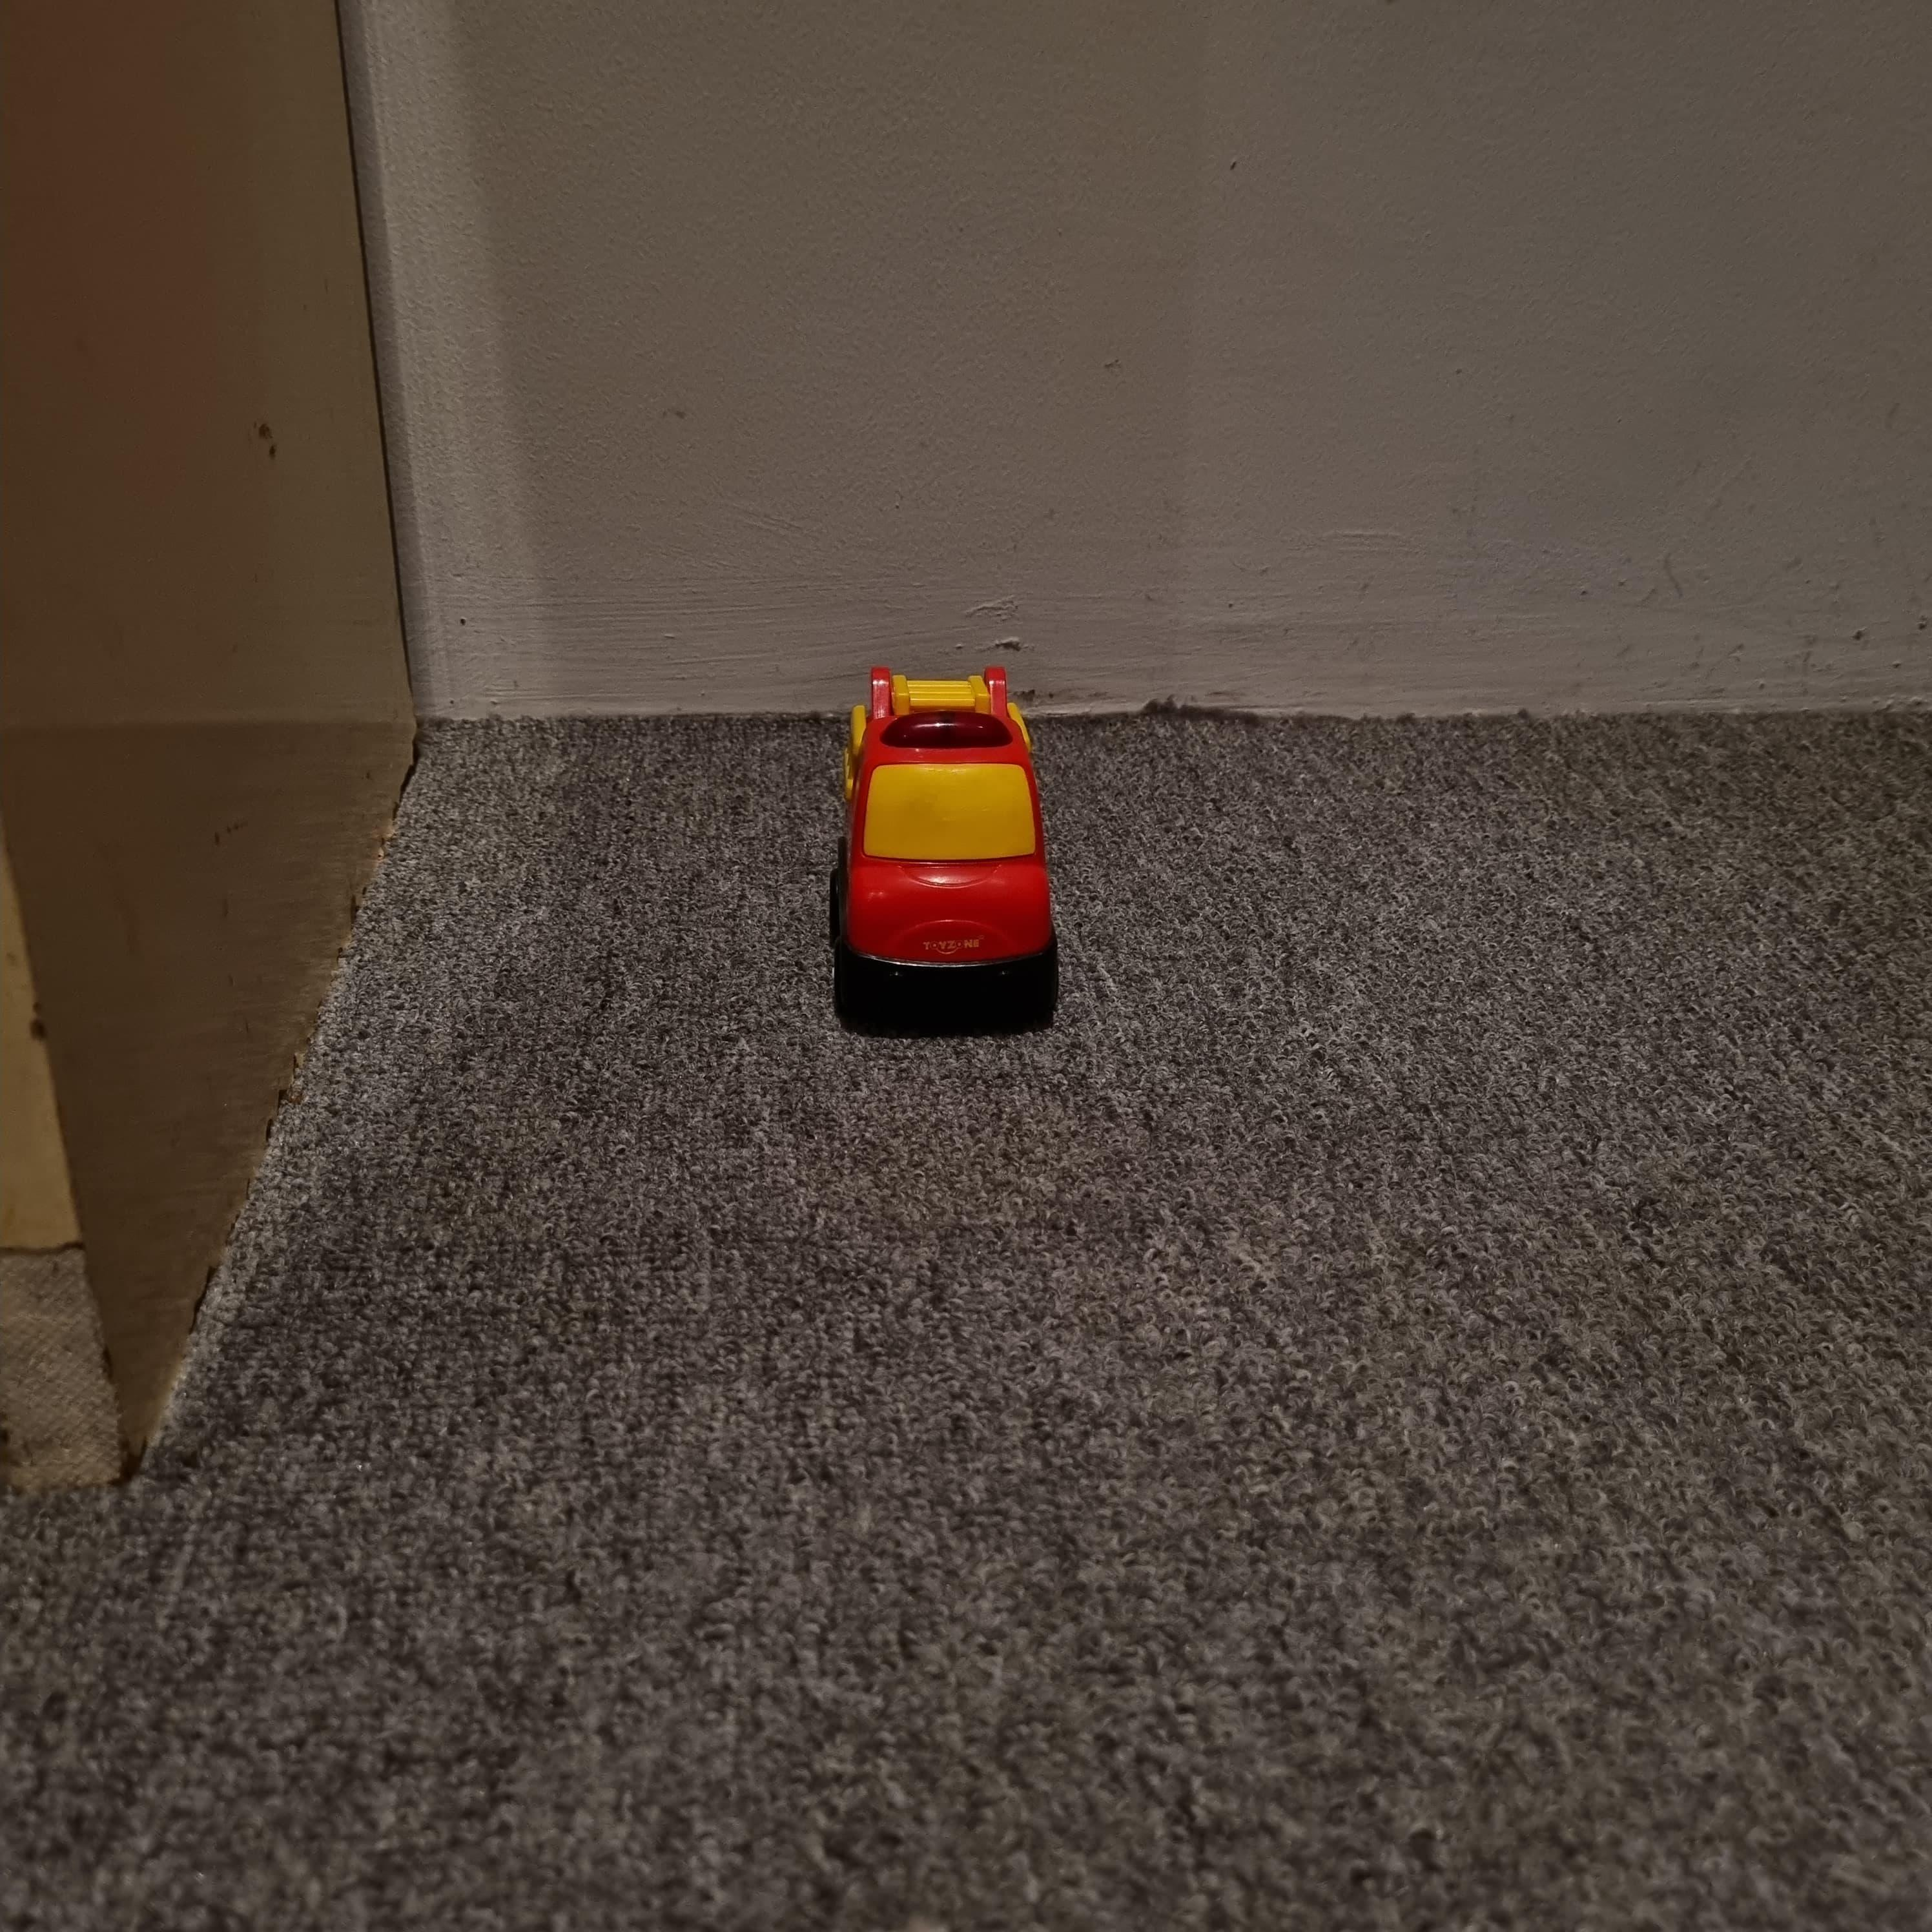firetruck_off: (828, 665, 1058, 1021)
